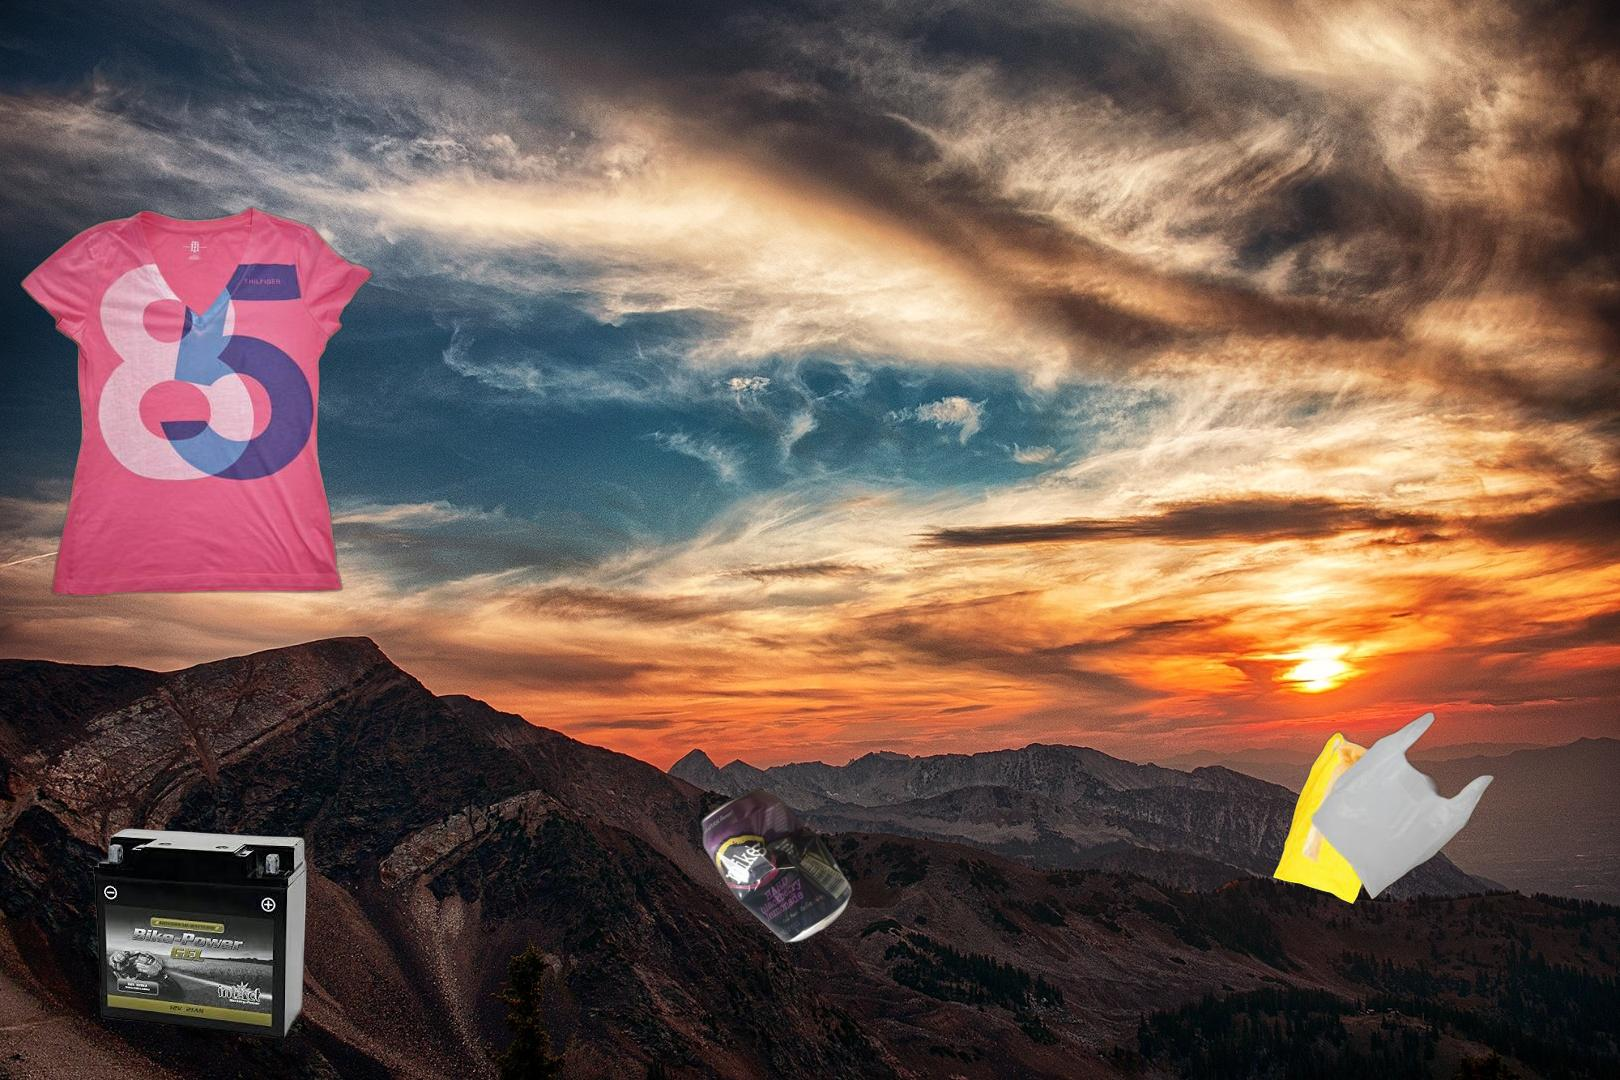battery: (90, 824, 309, 1041)
clothes: (18, 202, 374, 601)
metal-cans: (695, 786, 856, 947)
plastic-bag: (1270, 710, 1534, 918)
